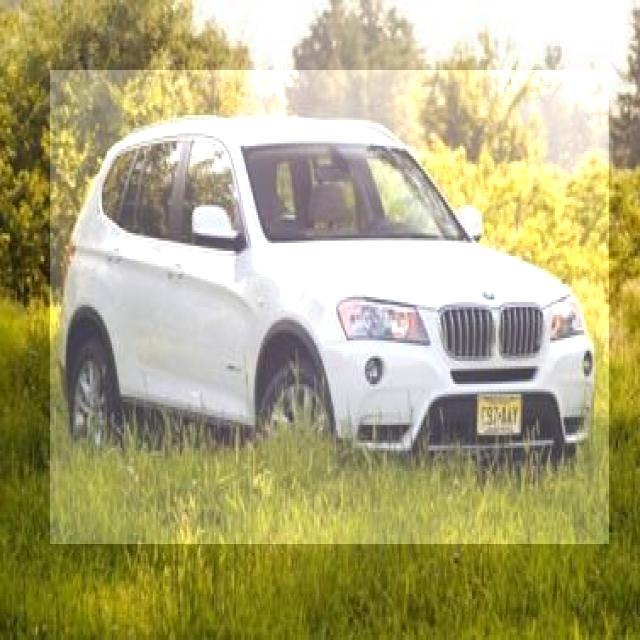Car: (50, 70, 609, 544)
